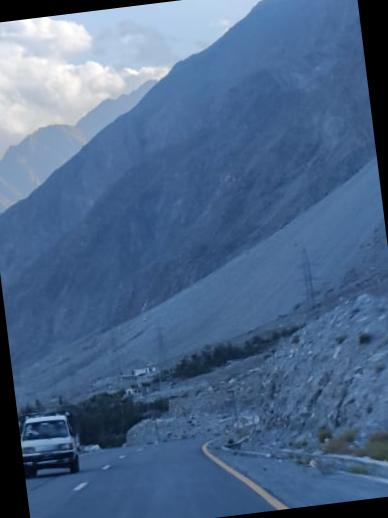sharp_turn: (15, 375, 219, 518)
